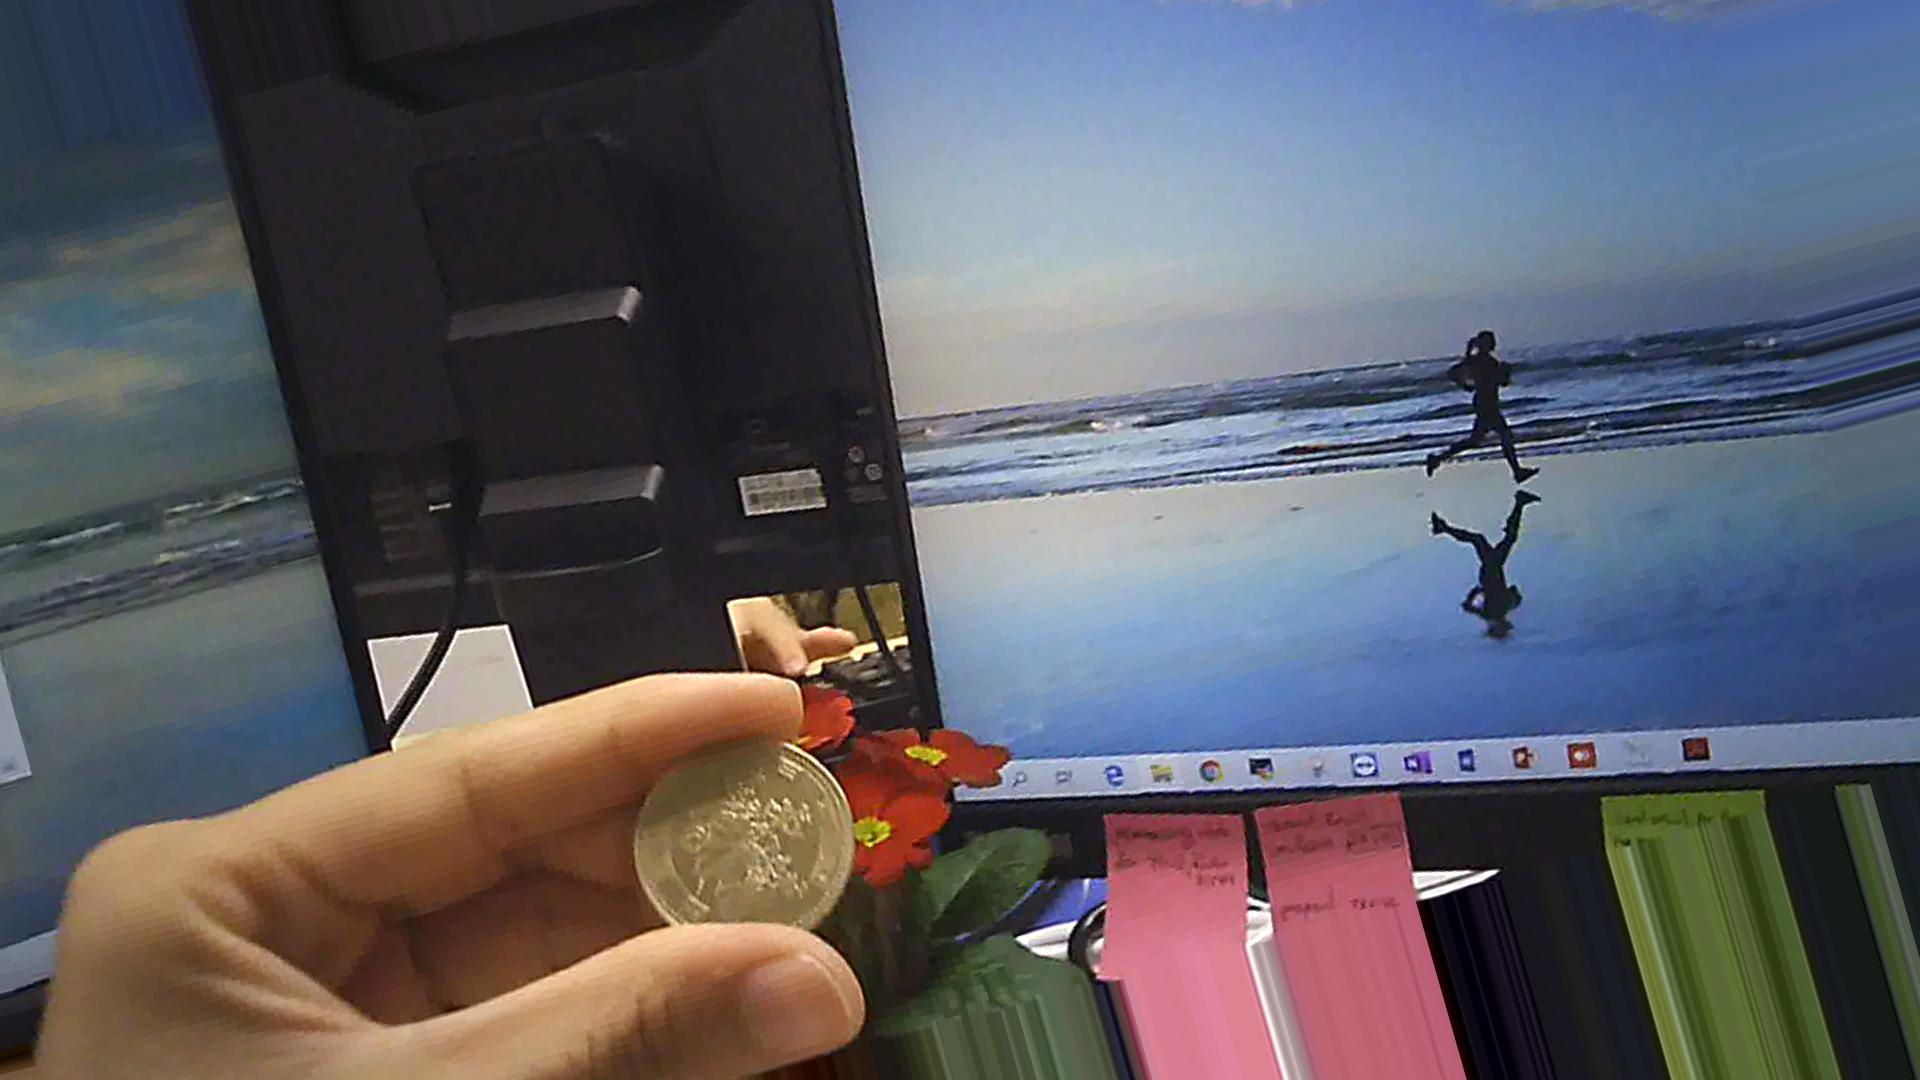500 Yen: (633, 731, 869, 948)
